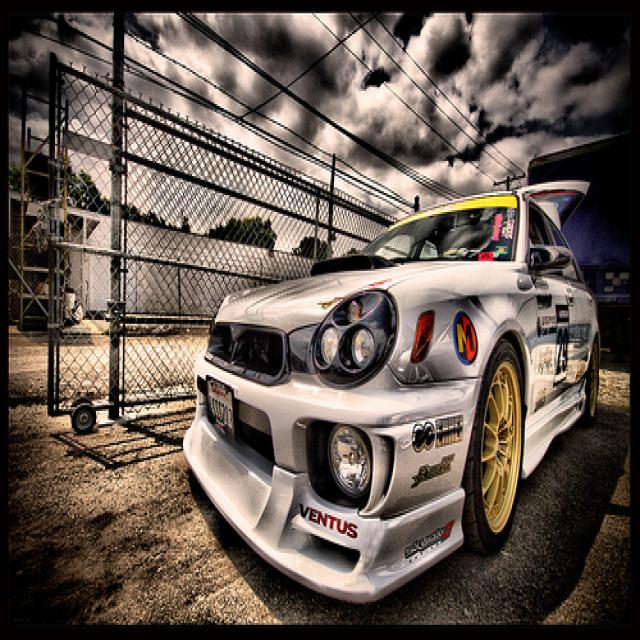Car: (177, 187, 607, 604)
